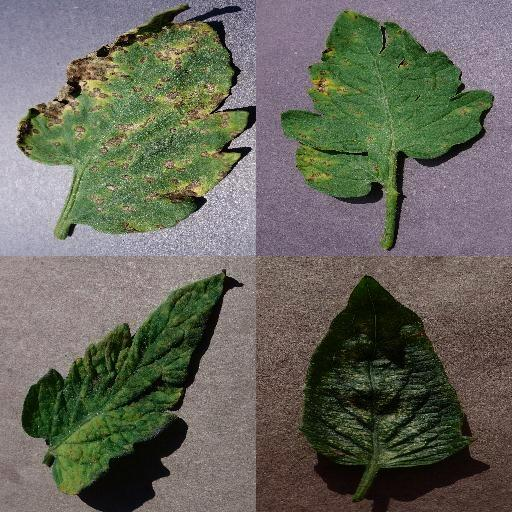Leaf Mold: (20, 269, 227, 497)
Septoria: (20, 4, 250, 236), (279, 9, 495, 199)
Spider Mites: (302, 275, 472, 469)
